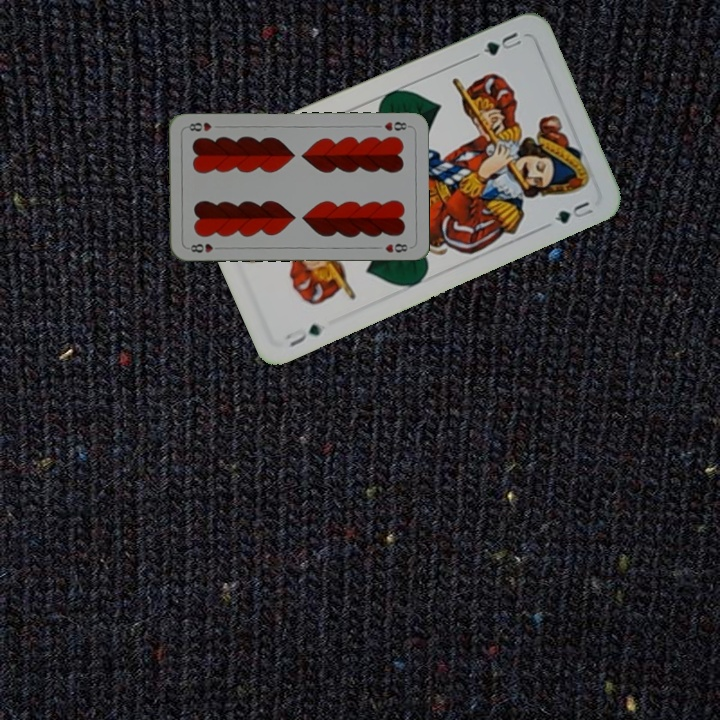GU: (470, 27, 526, 60), (281, 320, 325, 350)
H8: (184, 240, 224, 255), (380, 118, 412, 134)
